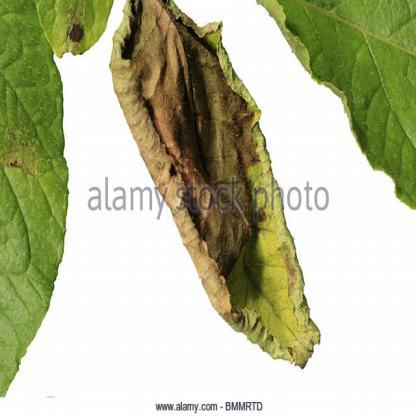Potato leaf late blight: (107, 1, 332, 377), (32, 1, 113, 58)
